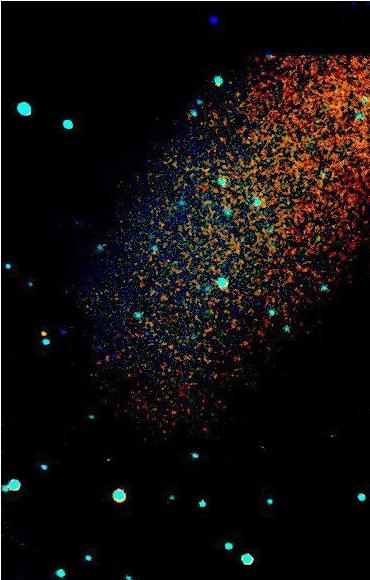star: (28, 319, 58, 349)
